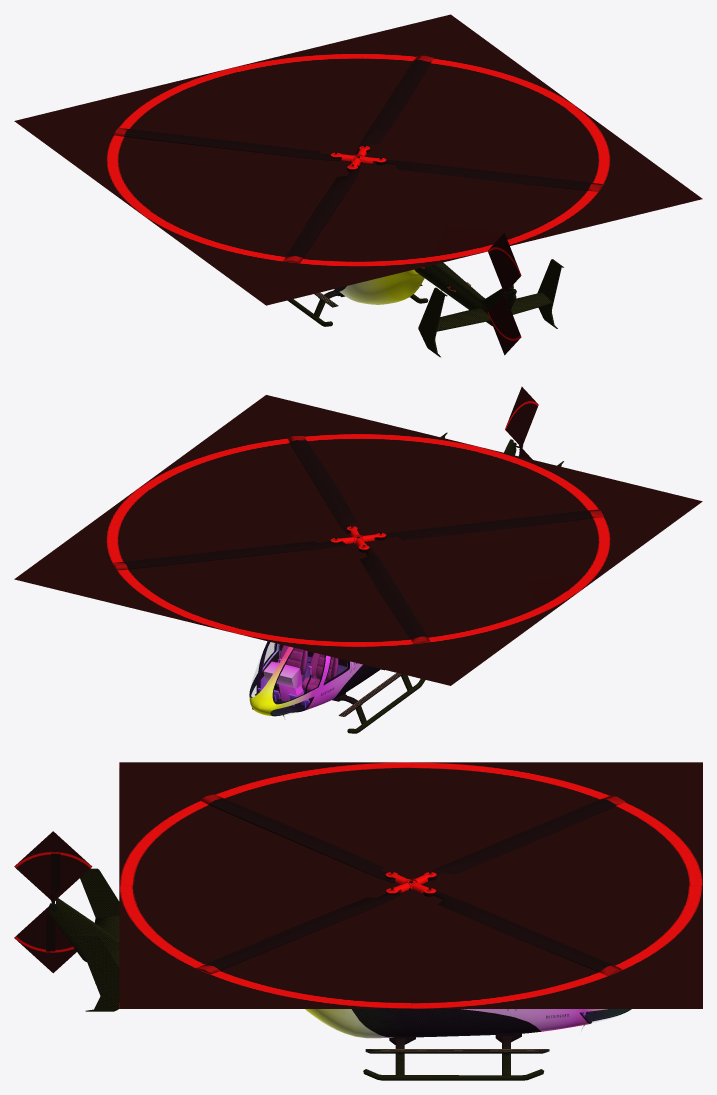
The model's file is supervolito2.glb.
3 views of the same model, one above another, from view 1: azimuth 30°, elevation 25°; view 2: azimuth 150°, elevation 25°; view 3: azimuth 270°, elevation 25° (orthographic). The views are drawn at different scales.
Visible parts, largest first — view 1: rotor_main_fast, rotor_main_slow, tail, rotor_rear_fast, bodyshell, suspension_lf; view 2: rotor_main_fast, rotor_main_slow, chassis, bodyshell, suspension_lf, rotor_rear_fast, door_dside_f; view 3: rotor_main_fast, rotor_main_slow, tail, rotor_rear_fast, bodyshell, suspension_rf, door_pside_r, door_pside_f, rotor_rear_slow.
Part boxes in pixels (box(x1,y1,x2,y2)): rotor_main_fast: box(14, 14, 702, 305); rotor_main_slow: box(114, 55, 602, 263); tail: box(414, 259, 563, 357); rotor_rear_fast: box(487, 233, 521, 355); bodyshell: box(335, 269, 424, 304); suspension_lf: box(287, 289, 345, 326); rotor_main_fast: box(14, 395, 702, 685); rotor_main_slow: box(112, 436, 603, 643); chassis: box(249, 641, 347, 716); bodyshell: box(249, 641, 380, 718); suspension_lf: box(332, 669, 425, 733); rotor_rear_fast: box(505, 386, 538, 459); door_dside_f: box(315, 656, 352, 705); rotor_main_fast: box(119, 762, 702, 1008); rotor_main_slow: box(196, 794, 625, 976); tail: box(48, 868, 119, 1011); rotor_rear_fast: box(14, 831, 92, 973); bodyshell: box(305, 1009, 607, 1038); suspension_rf: box(363, 1033, 549, 1080); door_pside_r: box(434, 1009, 512, 1035); door_pside_f: box(514, 1009, 576, 1032); rotor_rear_slow: box(46, 852, 60, 952).
Bounding box in the file's own units: 10.46 × 4.3 × 12.35.
Materials: 19 (15 with a texture image).
